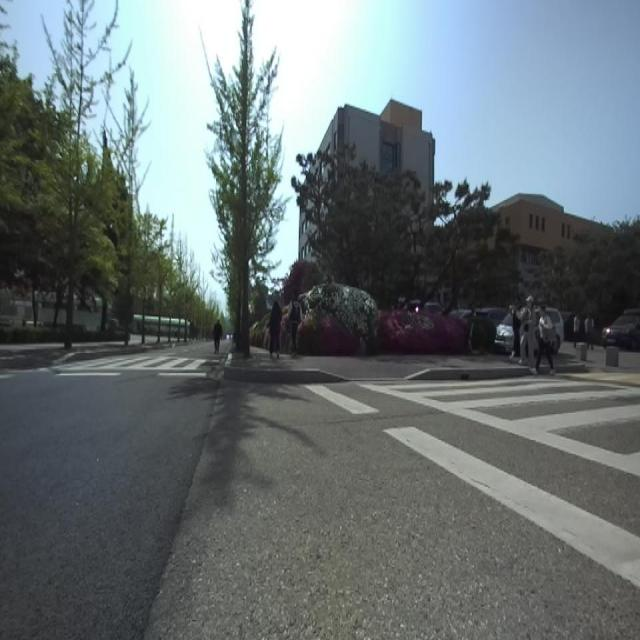sidewalk: (292, 356, 510, 380), (232, 346, 322, 367)
